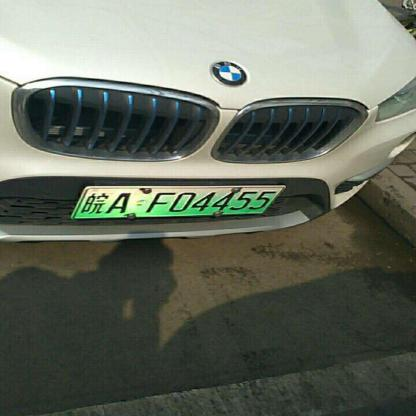lp: (74, 185, 286, 217)
